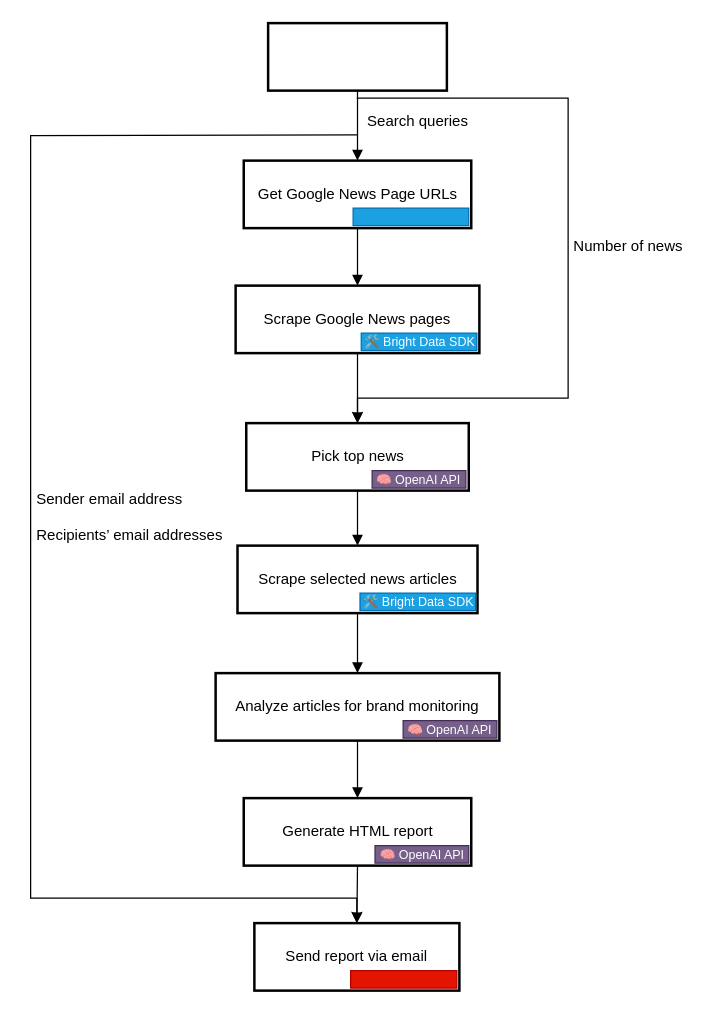
The diagram is 715 pixels wide and 1013 high, and some of its shapes have lost their labels. Each missing label, with the centre of its shape:
"Load config file" goes at point 357,56.
"📩 SendGrid SDK" goes at point 403,978.
"🛠️Bright Data SDK" goes at point 410,216.
